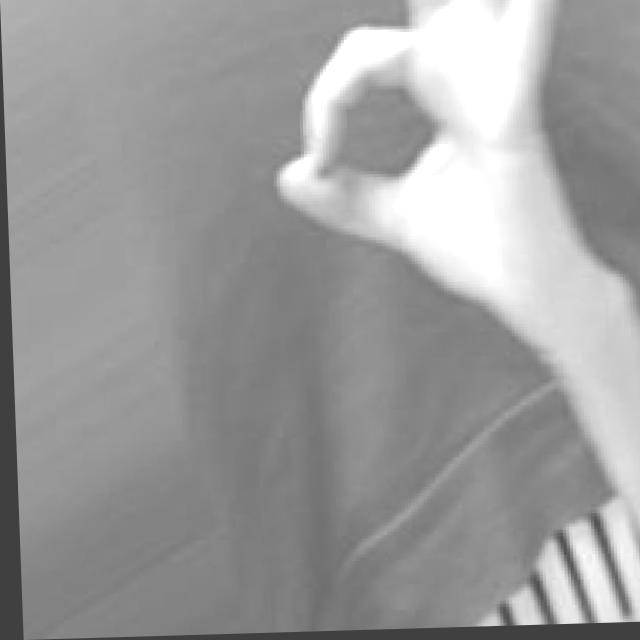O: (264, 0, 612, 340)
